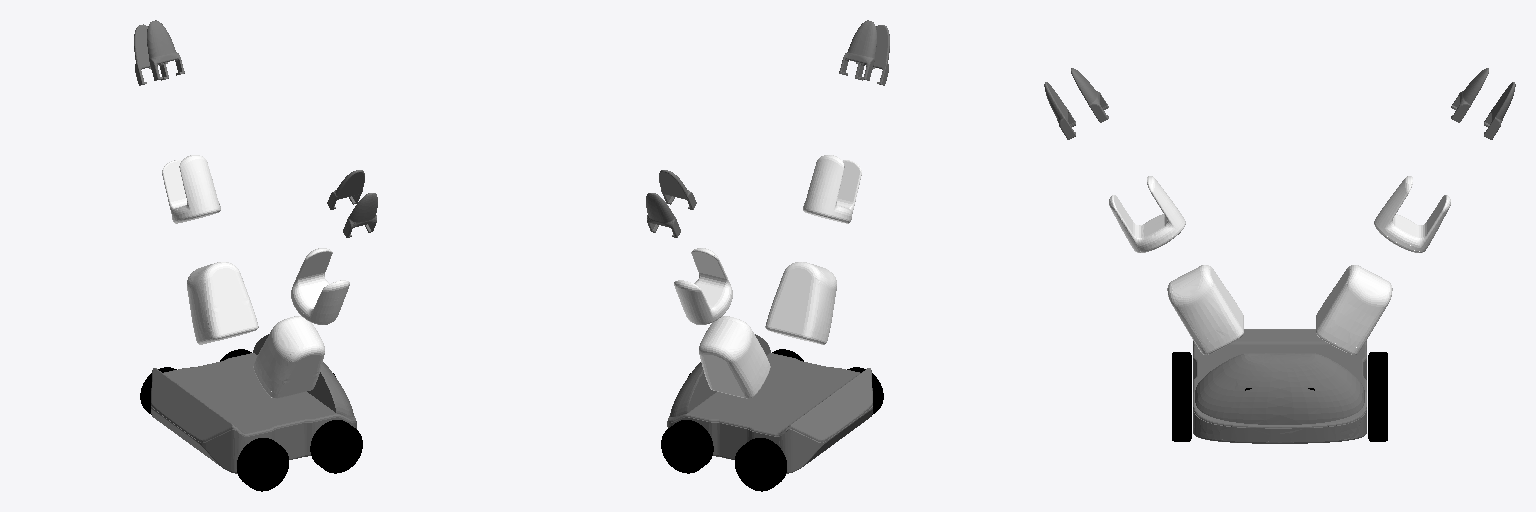
--- Facts derived from the render (not from the file) ---
Views: 3 orthographic renders of the robot side by side, from view 1: azimuth 30°, elevation 25°; view 2: azimuth 150°, elevation 25°; view 3: azimuth 270°, elevation 25°.
Robot: up1 — 24 links, 23 joints (10 revolute, 4 continuous, 4 prismatic, 5 fixed); root link up1_footprint; default pose: every joint at zero.
Links seen in each view (by area): view 1: base_link, left_armlink1, right_armlink1, left_armlink3, right_armlink3, right_front_wheel, right_back_wheel, io_link, left_finger2, right_finger2, left_finger1, right_finger1; view 2: base_link, right_armlink1, left_armlink1, right_armlink3, left_armlink3, left_front_wheel, left_back_wheel, io_link, right_finger1, left_finger1, right_finger2, left_finger2; view 3: io_link, base_link, right_armlink1, left_armlink1, right_armlink3, left_armlink3, right_front_wheel, left_front_wheel, left_finger2, right_finger1, right_back_wheel, left_back_wheel (+2 smaller).
Link boxes in pixels (left/top/right/bottom): base_link: left=151, top=353, right=356, bottom=473; left_armlink1: left=187, top=262, right=258, bottom=344; right_armlink1: left=253, top=316, right=324, bottom=398; left_armlink3: left=162, top=155, right=220, bottom=223; right_armlink3: left=291, top=248, right=349, bottom=324; right_front_wheel: left=310, top=420, right=362, bottom=473; right_back_wheel: left=237, top=438, right=288, bottom=491; io_link: left=253, top=334, right=353, bottom=416; left_finger2: left=147, top=20, right=184, bottom=80; right_finger2: left=343, top=193, right=377, bottom=237; left_finger1: left=134, top=24, right=168, bottom=85; right_finger1: left=327, top=170, right=364, bottom=209; base_link: left=667, top=353, right=872, bottom=473; right_armlink1: left=765, top=262, right=836, bottom=344; left_armlink1: left=699, top=316, right=770, bottom=398; right_armlink3: left=803, top=155, right=861, bottom=223; left_armlink3: left=674, top=248, right=732, bottom=324; left_front_wheel: left=661, top=420, right=713, bottom=473; left_back_wheel: left=735, top=438, right=786, bottom=491; io_link: left=670, top=334, right=770, bottom=416; right_finger1: left=839, top=20, right=876, bottom=80; left_finger1: left=646, top=193, right=680, bottom=237; right_finger2: left=855, top=25, right=889, bottom=85; left_finger2: left=659, top=170, right=696, bottom=209; io_link: left=1195, top=353, right=1364, bottom=424; base_link: left=1193, top=329, right=1366, bottom=443; right_armlink1: left=1167, top=265, right=1243, bottom=354; left_armlink1: left=1316, top=265, right=1392, bottom=354; right_armlink3: left=1109, top=176, right=1185, bottom=252; left_armlink3: left=1374, top=176, right=1450, bottom=252; right_front_wheel: left=1172, top=389, right=1191, bottom=441; left_front_wheel: left=1368, top=389, right=1387, bottom=441; left_finger2: left=1451, top=68, right=1488, bottom=122; right_finger1: left=1071, top=68, right=1108, bottom=122; right_back_wheel: left=1172, top=352, right=1191, bottom=390; left_back_wheel: left=1368, top=352, right=1387, bottom=390.
Bounding box of the posed robot: 0.2399 × 0.6227 × 0.5162 m (x, y, z).
Meshes: 11 distinct files referenced, 16 mesh visuals loaded (7 binary STL); not drawn: 7 (reference not matched to a file when rendering).

URDF robot description (up1):
<?xml version="1.0" ?>
<!-- =================================================================================== -->
<!-- |    This document was autogenerated by xacro from up1.xacro                      | -->
<!-- |    EDITING THIS FILE BY HAND IS NOT RECOMMENDED                                 | -->
<!-- =================================================================================== -->
<robot name="up1" xmlns:xacro="http://www.ros.org/wiki/xacro">
  <!-- This syntax does not appear to work, even in ros-indigo -->
  <!-- <xacro:arg name="manipulator_module" default="dual_arm" />
  <xacro:arg name="base_module" default="base" />
  <xacro:arg name="io_module" default="io" /> -->
  <!-- ============================   Common   ============================ -->
  <material name="black">
    <color rgba="0 0 0 1"/>
  </material>
  <material name="white">
    <color rgba="1 1 1 1"/>
  </material>
  <material name="red">
    <color rgba="1 0 0 1"/>
  </material>
  <material name="grey">
    <color rgba=".5 .5 .5 1"/>
  </material>
  <material name="green">
    <color rgba="0 1 0 1"/>
  </material>
  <material name="blue">
    <color rgba="0 0 1 1"/>
  </material>
  <material name="yellow">
    <color rgba="1 1 0 1"/>
  </material>
  <gazebo>
    <plugin filename="libgazebo_ros_control.so" name="gazebo_ros_control">
      <robotNamespace>/up1</robotNamespace>
      <robotSimType>gazebo_ros_control/DefaultRobotHWSim</robotSimType>
    </plugin>
  </gazebo>
  <!-- ============================   Base Module   ============================ -->
  <!-- base_footprint is a fictitious link(frame) that is on the ground right below base_link origin,
         navigation stack dedpends on this frame -->
  <link name="up1_footprint">
    <visual>
      <origin rpy="0 0 0" xyz="0 0 0"/>
      <geometry>
        <box size="0.01 0.01 0.01"/>
      </geometry>
      <material name="white"/>
    </visual>
    <collision>
      <!-- represent base collision with a simple rectangular model, positioned by base_size_z s.t. top
             surface of the collision box matches the top surface of the PR2 base -->
      <origin rpy="0 0 0" xyz="0 0 0.071"/>
      <geometry>
        <box size="0.001 0.001 0.001"/>
      </geometry>
    </collision>
  </link>
  <joint name="up1_footprint_joint" type="fixed">
    <origin rpy="0 0 0" xyz="0 0 0.051"/>
    <child link="base_link"/>
    <parent link="up1_footprint"/>
  </joint>
  <!-- Base Link -->
  <link name="base_link">
    <visual>
      <geometry>
        <mesh filename="package://up1_description/meshes/base/base.stl" scale="0.001 0.001 0.001"/>
      </geometry>
      <material name="grey"/>
    </visual>
    <collision>
      <geometry>
        <mesh filename="package://up1_description/meshes/base/base.stl" scale="0.001 0.001 0.001"/>
      </geometry>
    </collision>
    <inertial>
      <mass value="0.30813"/>
      <inertia ixx="0.00175941073" ixy="0.00000172768" ixz="-0.00008279443" iyy="0.00172024238" iyz="0.00000045789" izz="0.00311278092"/>
    </inertial>
  </link>
  <!-- ============================   Base Module Gazebo   ============================ -->
  <gazebo>
    <plugin filename="libgazebo_ros_skid_steer_drive.so" name="skid_steer_drive_controller">
      <updateRate>100.0</updateRate>
      <robotNamespace/>
      <leftFrontJoint>base_to_left_front_wheel</leftFrontJoint>
      <rightFrontJoint>base_to_right_front_wheel</rightFrontJoint>
      <leftRearJoint>base_to_left_back_wheel</leftRearJoint>
      <rightRearJoint>base_to_right_back_wheel</rightRearJoint>
      <wheelSeparation>0.2794</wheelSeparation>
      <wheelDiameter>0.0625</wheelDiameter>
      <robotBaseFrame>up1_footprint</robotBaseFrame>
      <torque>20</torque>
      <topicName>cmd_vel</topicName>
      <broadcastTF>false</broadcastTF>
    </plugin>
  </gazebo>
  <!-- ============================   Wheel   ============================ -->
  <!-- Front Wheel Joint -->
  <joint name="base_to_right_front_wheel" type="continuous">
    <parent link="base_link"/>
    <child link="right_front_wheel"/>
    <origin rpy="1.570795 0 0" xyz="0.05569 -0.12922 -0.0211"/>
    <axis xyz="0 0 -1.0"/>
  </joint>
  <!-- Front Wheel Link -->
  <link name="right_front_wheel">
    <visual>
      <geometry>
        <mesh filename="package://up1_description/meshes/base/wheel.stl" scale="0.001 0.001 0.001"/>
      </geometry>
      <material name="black"/>
    </visual>
    <collision>
      <geometry>
        <mesh filename="package://up1_description/meshes/base/wheel.stl" scale="0.001 0.001 0.001"/>
      </geometry>
    </collision>
    <inertial>
      <mass value="0.01791"/>
      <inertia ixx="0.00000575118" ixy="-0.00000000224" ixz="0.0" iyy="0.00000575882" iyz="0.0" izz="0.0000094354"/>
    </inertial>
  </link>
  <!-- Back Wheel Joint -->
  <joint name="base_to_right_back_wheel" type="continuous">
    <parent link="base_link"/>
    <child link="right_back_wheel"/>
    <origin rpy="1.570795 0 0" xyz="-0.05883 -0.12922 -0.0211"/>
    <axis xyz="0 0 -1.0"/>
  </joint>
  <!-- Back Wheel Link -->
  <link name="right_back_wheel">
    <visual>
      <geometry>
        <mesh filename="package://up1_description/meshes/base/wheel.stl" scale="0.001 0.001 0.001"/>
      </geometry>
      <material name="black"/>
    </visual>
    <collision>
      <geometry>
        <mesh filename="package://up1_description/meshes/base/wheel.stl" scale="0.001 0.001 0.001"/>
      </geometry>
    </collision>
    <inertial>
      <mass value="0.01791"/>
      <inertia ixx="0.00000575118" ixy="-0.00000000224" ixz="0.0" iyy="0.00000575882" iyz="0.0" izz="0.0000094354"/>
    </inertial>
  </link>
  <!-- ============================   Wheel   ============================ -->
  <!-- Front Wheel Joint -->
  <joint name="base_to_left_front_wheel" type="continuous">
    <parent link="base_link"/>
    <child link="left_front_wheel"/>
    <origin rpy="-1.570795 0 0" xyz="0.05569 0.12922 -0.0211"/>
    <axis xyz="0 0 1.0"/>
  </joint>
  <!-- Front Wheel Link -->
  <link name="left_front_wheel">
    <visual>
      <geometry>
        <mesh filename="package://up1_description/meshes/base/wheel.stl" scale="0.001 0.001 0.001"/>
      </geometry>
      <material name="black"/>
    </visual>
    <collision>
      <geometry>
        <mesh filename="package://up1_description/meshes/base/wheel.stl" scale="0.001 0.001 0.001"/>
      </geometry>
    </collision>
    <inertial>
      <mass value="0.01791"/>
      <inertia ixx="0.00000575118" ixy="-0.00000000224" ixz="0.0" iyy="0.00000575882" iyz="0.0" izz="0.0000094354"/>
    </inertial>
  </link>
  <!-- Back Wheel Joint -->
  <joint name="base_to_left_back_wheel" type="continuous">
    <parent link="base_link"/>
    <child link="left_back_wheel"/>
    <origin rpy="-1.570795 0 0" xyz="-0.05883 0.12922 -0.0211"/>
    <axis xyz="0 0 1.0"/>
  </joint>
  <!-- Back Wheel Link -->
  <link name="left_back_wheel">
    <visual>
      <geometry>
        <mesh filename="package://up1_description/meshes/base/wheel.stl" scale="0.001 0.001 0.001"/>
      </geometry>
      <material name="black"/>
    </visual>
    <collision>
      <geometry>
        <mesh filename="package://up1_description/meshes/base/wheel.stl" scale="0.001 0.001 0.001"/>
      </geometry>
    </collision>
    <inertial>
      <mass value="0.01791"/>
      <inertia ixx="0.00000575118" ixy="-0.00000000224" ixz="0.0" iyy="0.00000575882" iyz="0.0" izz="0.0000094354"/>
    </inertial>
  </link>
  <!-- ============================   IO Module   ============================ -->
  <!-- IO Joint -->
  <joint name="base_to_io" type="fixed">
    <parent link="base_link"/>
    <child link="io_link"/>
    <origin xyz="0.09136 0 0.03356"/>
  </joint>
  <!-- IO Link -->
  <link name="io_link">
    <visual>
      <geometry>
        <mesh filename="package://up1_description/meshes/io/io.stl" scale="0.001 0.001 0.001"/>
      </geometry>
      <material name="grey"/>
    </visual>
    <collision>
      <geometry>
        <mesh filename="package://up1_description/meshes/io/io.stl" scale="0.001 0.001 0.001"/>
      </geometry>
    </collision>
    <inertial>
      <mass value="0.09799"/>
      <inertia ixx="0.00036946993" ixy="0.00000010944" ixz="-0.00001523298" iyy="0.00007193675" iyz="0.00000030515" izz="0.00034948153"/>
    </inertial>
  </link>
  <!-- ============================   IO Module Gazebo   ============================ -->
  <gazebo>

    </gazebo>
  <!-- ============================   Camera   ============================ -->
  <!-- Camera Joint -->
  <joint name="io_to_right_camera" type="fixed">
    <parent link="io_link"/>
    <child link="right_camera"/>
    <origin xyz="-0.01219 -0.04027 0.00023"/>
  </joint>
  <!-- Camera Link -->
  <link name="right_camera">
    <visual>
      <geometry>
        <mesh filename="package://up1_description/meshes/io/camera.stl" scale="0.001 0.001 0.001"/>
      </geometry>
      <material name="black"/>
    </visual>
    <collision>
      <geometry>
        <mesh filename="package://up1_description/meshes/io/camera.stl" scale="0.001 0.001 0.001"/>
      </geometry>
    </collision>
    <inertial>
      <mass value="0.00488"/>
      <inertia ixx="0.00000029098" ixy="0.0" ixz="0.0" iyy="0.00000085538" iyz="0.0" izz="0.00000085538"/>
    </inertial>
  </link>
  <!-- ============================   Camera   ============================ -->
  <!-- Camera Joint -->
  <joint name="io_to_left_camera" type="fixed">
    <parent link="io_link"/>
    <child link="left_camera"/>
    <origin xyz="-0.01219 0.04027 0.00023"/>
  </joint>
  <!-- Camera Link -->
  <link name="left_camera">
    <visual>
      <geometry>
        <mesh filename="package://up1_description/meshes/io/camera.stl" scale="0.001 0.001 0.001"/>
      </geometry>
      <material name="black"/>
    </visual>
    <collision>
      <geometry>
        <mesh filename="package://up1_description/meshes/io/camera.stl" scale="0.001 0.001 0.001"/>
      </geometry>
    </collision>
    <inertial>
      <mass value="0.00488"/>
      <inertia ixx="0.00000029098" ixy="0.0" ixz="0.0" iyy="0.00000085538" iyz="0.0" izz="0.00000085538"/>
    </inertial>
  </link>
  <!-- ============================   Dual Arm Module   ============================ -->
  <!-- This xacro group is intended to be used in a full UP1 robot URDF -->
  <!-- Armroot Joint -->
  <joint name="base_to_armroot" type="fixed">
    <parent link="base_link"/>
    <child link="armroot_link"/>
    <origin xyz="-0.01247 0 0.05187"/>
  </joint>
  <!-- ============================   Arm Root Link   ============================ -->
  <!-- Armroot Link -->
  <link name="armroot_link">
    <visual>
      <geometry>
        <mesh filename="package://up1_description/meshes/dual_arm/armroot.stl" scale="0.001 0.001 0.001"/>
      </geometry>
      <material name="grey"/>
    </visual>
    <collision>
      <geometry>
        <mesh filename="package://up1_description/meshes/dual_arm/armroot.stl" scale="0.001 0.001 0.001"/>
      </geometry>
    </collision>
    <inertial>
      <mass value="0.20657"/>
      <inertia ixx="0.00096240277" ixy="-0.00000350376" ixz="0.00002354169" iyy="0.00057897825" iyz="0.00000127419" izz="0.00134814249"/>
    </inertial>
  </link>
  <!-- ============================   Arm   ============================ -->
  <!-- Arm Joint 1 -->
  <joint name="right_armroot_to_armlink1" type="revolute">
    <parent link="armroot_link"/>
    <child link="right_armlink1"/>
    <origin rpy="-0.523598333333 3.14159 0" xyz="0.01777 -0.07385 0.01853"/>
    <axis xyz="0 0 1"/>
    <limit effort="6.0" lower="-1.570795" upper="1.570795" velocity="1"/>
  </joint>
  <!-- Arm Link 1 -->
  <link name="right_armlink1">
    <visual>
      <geometry>
        <mesh filename="package://up1_description/meshes/dual_arm/armlink1.stl" scale="0.001 0.001 0.001"/>
      </geometry>
      <material name="white"/>
    </visual>
    <collision>
      <geometry>
        <mesh filename="package://up1_description/meshes/dual_arm/armlink1.stl" scale="0.001 0.001 0.001"/>
      </geometry>
    </collision>
    <inertial>
      <mass value="0.06985"/>
      <inertia ixx="0.00023448766" ixy="0.0000000027" ixz="0.00000001913" iyy="0.00024004726" iyz="-0.0000015393" izz="0.00007431363"/>
    </inertial>
  </link>
  <!-- Arm Joint 2 -->
  <joint name="right_armlink1_to_armlink2" type="revolute">
    <parent link="right_armlink1"/>
    <child link="right_armlink2"/>
    <origin rpy="1.570795 3.14159 0" xyz="0 0 -0.07038"/>
    <axis xyz="0 0 1.0"/>
    <limit effort="6.0" lower="-1.570795" upper="1.570795" velocity="1"/>
  </joint>
  <!-- Arm Link 2 -->
  <link name="right_armlink2">
    <visual>
      <geometry>
        <mesh filename="package://up1_description/meshes/dual_arm/armlink2.stl" scale="0.001 0.001 0.001"/>
      </geometry>
      <material name="white"/>
    </visual>
    <collision>
      <geometry>
        <mesh filename="package://up1_description/meshes/dual_arm/armlink2.stl" scale="0.001 0.001 0.001"/>
      </geometry>
    </collision>
    <inertial>
      <mass value="0.07067"/>
      <inertia ixx="0.00029708797" ixy="-0.00000000444" ixz="0.00000000068" iyy="0.0000799845" iyz="-0.00000174097" izz="0.00026073683"/>
    </inertial>
  </link>
  <!-- Arm Joint 3 -->
  <joint name="right_armlink2_to_armlink3" type="revolute">
    <parent link="right_armlink2"/>
    <child link="right_armlink3"/>
    <origin rpy="-1.570795 3.14159 0" xyz="0 0.09602 0"/>
    <axis xyz="0 0 -1"/>
    <limit effort="6.0" lower="-1.570795" upper="1.570795" velocity="1"/>
  </joint>
  <!-- Arm Link 3 -->
  <link name="right_armlink3">
    <visual>
      <geometry>
        <mesh filename="package://up1_description/meshes/dual_arm/armlink3.stl" scale="0.001 0.001 0.001"/>
      </geometry>
      <material name="white"/>
    </visual>
    <collision>
      <geometry>
        <mesh filename="package://up1_description/meshes/dual_arm/armlink3.stl" scale="0.001 0.001 0.001"/>
      </geometry>
    </collision>
    <inertial>
      <mass value="0.04828"/>
      <inertia ixx="0.00010408822" ixy="0.00000002684" ixz="0.00000006554" iyy="0.00008358122" iyz="0.00000001571" izz="0.00004453887"/>
    </inertial>
  </link>
  <!-- Arm Joint 4 -->
  <joint name="right_armlink3_to_armlink4" type="revolute">
    <parent link="right_armlink3"/>
    <child link="right_armlink4"/>
    <origin rpy="1.570795 0 0" xyz="0 0 0.05588"/>
    <axis xyz="0 0 1.0"/>
    <limit effort="6.0" lower="-1.570795" upper="1.570795" velocity="1"/>
  </joint>
  <!-- Arm Link 4 -->
  <link name="right_armlink4">
    <visual>
      <geometry>
        <mesh filename="package://up1_description/meshes/dual_arm/armlink4.stl" scale="0.001 0.001 0.001"/>
      </geometry>
      <material name="white"/>
    </visual>
    <collision>
      <geometry>
        <mesh filename="package://up1_description/meshes/dual_arm/armlink4.stl" scale="0.001 0.001 0.001"/>
      </geometry>
    </collision>
    <inertial>
      <mass value="0.07021"/>
      <inertia ixx="0.00022365714" ixy="0.00000581335" ixz="-0.00000002583" iyy="0.00004497277" iyz="0.00000036702" izz="0.00022294807"/>
    </inertial>
  </link>
  <!-- Arm Joint 5 -->
  <joint name="right_armlink4_to_gripper" type="revolute">
    <parent link="right_armlink4"/>
    <child link="right_gripper"/>
    <origin rpy="0 1.570795 0" xyz="0 0.07641 0"/>
    <axis xyz="0 0 -1.0"/>
    <limit effort="6.0" lower="-1.570795" upper="1.570795" velocity="1"/>
  </joint>
  <!-- Gripper Link -->
  <link name="right_gripper">
    <visual>
      <geometry>
        <mesh filename="package://up1_description/meshes/dual_arm/armlink5.stl" scale="0.001 0.001 0.001"/>
      </geometry>
      <material name="white"/>
    </visual>
    <collision>
      <geometry>
        <mesh filename="package://up1_description/meshes/dual_arm/armlink5.stl" scale="0.001 0.001 0.001"/>
      </geometry>
    </collision>
    <inertial>
      <mass value="0.07134"/>
      <inertia ixx="0.00024486788" ixy="-0.00000179765" ixz="-0.0000013121" iyy="0.00007141374" iyz="0.00000015595" izz="0.0002397239"/>
    </inertial>
  </link>
  <!-- ============================   Arm Gazebo  ============================ -->
  <gazebo reference="right_armlink1">
    <turnGravityOff>true</turnGravityOff>
  </gazebo>
  <gazebo reference="right_armlink2">
    <turnGravityOff>true</turnGravityOff>
  </gazebo>
  <gazebo reference="right_armlink3">
    <turnGravityOff>true</turnGravityOff>
  </gazebo>
  <gazebo reference="right_armlink4">
    <turnGravityOff>true</turnGravityOff>
  </gazebo>
  <gazebo reference="right_gripper">
    <turnGravityOff>true</turnGravityOff>
  </gazebo>
  <!-- ============================   Arm Transmission  ============================ -->
  <transmission name="right_armroot_to_armlink1_trans">
    <type>transmission_interface/SimpleTransmission</type>
    <joint name="right_armroot_to_armlink1">
      <hardwareInterface>PositionJointInterface</hardwareInterface>
    </joint>
    <actuator name="right_armroot_to_armlink1_motor">
      <mechanicalReduction>1</mechanicalReduction>
    </actuator>
  </transmission>
  <transmission name="right_armlink1_to_armlink2_trans">
    <type>transmission_interface/SimpleTransmission</type>
    <joint name="right_armlink1_to_armlink2">
      <hardwareInterface>PositionJointInterface</hardwareInterface>
    </joint>
    <actuator name="right_armlink1_to_armlink2_motor">
      <mechanicalReduction>1</mechanicalReduction>
    </actuator>
  </transmission>
  <transmission name="right_armlink2_to_armlink3_trans">
    <type>transmission_interface/SimpleTransmission</type>
    <joint name="right_armlink2_to_armlink3">
      <hardwareInterface>PositionJointInterface</hardwareInterface>
    </joint>
    <actuator name="right_armlink2_to_armlink3_motor">
      <mechanicalReduction>1</mechanicalReduction>
    </actuator>
  </transmission>
  <transmission name="right_armlink3_to_armlink4_trans">
    <type>transmission_interface/SimpleTransmission</type>
    <joint name="right_armlink3_to_armlink4">
      <hardwareInterface>PositionJointInterface</hardwareInterface>
    </joint>
    <actuator name="right_armlink3_to_armlink4_motor">
      <mechanicalReduction>1</mechanicalReduction>
    </actuator>
  </transmission>
  <transmission name="right_armlink4_to_gripper_trans">
    <type>transmission_interface/SimpleTransmission</type>
    <joint name="right_armlink4_to_gripper">
      <hardwareInterface>PositionJointInterface</hardwareInterface>
    </joint>
    <actuator name="right_armlink4_to_gripper_motor">
      <mechanicalReduction>1</mechanicalReduction>
    </actuator>
  </transmission>
  <!-- ============================   Arm   ============================ -->
  <!-- Arm Joint 1 -->
  <joint name="left_armroot_to_armlink1" type="revolute">
    <parent link="armroot_link"/>
    <child link="left_armlink1"/>
    <origin rpy="0.523598333333 3.14159 0" xyz="0.01777 0.07385 0.01853"/>
    <axis xyz="0 0 1"/>
    <limit effort="6.0" lower="-1.570795" upper="1.570795" velocity="1"/>
  </joint>
  <!-- Arm Link 1 -->
  <link name="left_armlink1">
    <visual>
      <geometry>
        <mesh filename="package://up1_description/meshes/dual_arm/armlink1.stl" scale="0.001 0.001 0.001"/>
      </geometry>
      <material name="white"/>
    </visual>
    <collision>
      <geometry>
        <mesh filename="package://up1_description/meshes/dual_arm/armlink1.stl" scale="0.001 0.001 0.001"/>
      </geometry>
    </collision>
    <inertial>
      <mass value="0.06985"/>
      <inertia ixx="0.00023448766" ixy="0.0000000027" ixz="0.00000001913" iyy="0.00024004726" iyz="-0.0000015393" izz="0.00007431363"/>
    </inertial>
  </link>
  <!-- Arm Joint 2 -->
  <joint name="left_armlink1_to_armlink2" type="revolute">
    <parent link="left_armlink1"/>
    <child link="left_armlink2"/>
    <origin rpy="1.570795 3.14159 0" xyz="0 0 -0.07038"/>
    <axis xyz="0 0 -1.0"/>
    <limit effort="6.0" lower="-1.570795" upper="1.570795" velocity="1"/>
  </joint>
  <!-- Arm Link 2 -->
  <link name="left_armlink2">
    <visual>
      <geometry>
        <mesh filename="package://up1_description/meshes/dual_arm/armlink2.stl" scale="0.001 0.001 0.001"/>
      </geometry>
      <material name="white"/>
    </visual>
    <collision>
      <geometry>
        <mesh filename="package://up1_description/meshes/dual_arm/armlink2.stl" scale="0.001 0.001 0.001"/>
      </geometry>
    </collision>
    <inertial>
      <mass value="0.07067"/>
      <inertia ixx="0.00029708797" ixy="-0.00000000444" ixz="0.00000000068" iyy="0.0000799845" iyz="-0.00000174097" izz="0.00026073683"/>
    </inertial>
  </link>
  <!-- Arm Joint 3 -->
  <joint name="left_armlink2_to_armlink3" type="revolute">
    <parent link="left_armlink2"/>
    <child link="left_armlink3"/>
    <origin rpy="-1.570795 3.14159 0" xyz="0 0.09602 0"/>
    <axis xyz="0 0 -1"/>
    <limit effort="6.0" lower="-1.570795" upper="1.570795" velocity="1"/>
  </joint>
  <!-- Arm Link 3 -->
  <link name="left_armlink3">
    <visual>
      <geometry>
        <mesh filename="package://up1_description/meshes/dual_arm/armlink3.stl" scale="0.001 0.001 0.001"/>
      </geometry>
      <material name="white"/>
    </visual>
    <collision>
      <geometry>
        <mesh filename="package://up1_description/meshes/dual_arm/armlink3.stl" scale="0.001 0.001 0.001"/>
      </geometry>
    </collision>
    <inertial>
      <mass value="0.04828"/>
      <inertia ixx="0.00010408822" ixy="0.00000002684" ixz="0.00000006554" iyy="0.00008358122" iyz="0.00000001571" izz="0.00004453887"/>
    </inertial>
  </link>
  <!-- Arm Joint 4 -->
  <joint name="left_armlink3_to_armlink4" type="revolute">
    <parent link="left_armlink3"/>
    <child link="left_armlink4"/>
    <origin rpy="1.570795 0 0" xyz="0 0 0.05588"/>
    <axis xyz="0 0 -1.0"/>
    <limit effort="6.0" lower="-1.570795" upper="1.570795" velocity="1"/>
  </joint>
  <!-- Arm Link 4 -->
  <link name="left_armlink4">
    <visual>
      <geometry>
        <mesh filename="package://up1_description/meshes/dual_arm/armlink4.stl" scale="0.001 0.001 0.001"/>
      </geometry>
      <material name="white"/>
    </visual>
    <collision>
      <geometry>
        <mesh filename="package://up1_description/meshes/dual_arm/armlink4.stl" scale="0.001 0.001 0.001"/>
      </geometry>
    </collision>
    <inertial>
      <mass value="0.07021"/>
      <inertia ixx="0.00022365714" ixy="0.00000581335" ixz="-0.00000002583" iyy="0.00004497277" iyz="0.00000036702" izz="0.00022294807"/>
    </inertial>
  </link>
  <!-- Arm Joint 5 -->
  <joint name="left_armlink4_to_gripper" type="revolute">
    <parent link="left_armlink4"/>
    <child link="left_gripper"/>
    <origin rpy="0 1.570795 0" xyz="0 0.07641 0"/>
    <axis xyz="0 0 1.0"/>
    <limit effort="6.0" lower="-1.570795" upper="1.570795" velocity="1"/>
  </joint>
  <!-- Gripper Link -->
  <link name="left_gripper">
    <visual>
      <geometry>
        <mesh filename="package://up1_description/meshes/dual_arm/armlink5.stl" scale="0.001 0.001 0.001"/>
      </geometry>
      <material name="white"/>
    </visual>
    <collision>
      <geometry>
        <mesh filename="package://up1_description/meshes/dual_arm/armlink5.stl" scale="0.001 0.001 0.001"/>
      </geometry>
    </collision>
    <inertial>
      <mass value="0.07134"/>
      <inertia ixx="0.00024486788" ixy="-0.00000179765" ixz="-0.0000013121" iyy="0.00007141374" iyz="0.00000015595" izz="0.0002397239"/>
    </inertial>
  </link>
  <!-- ============================   Arm Gazebo  ============================ -->
  <gazebo reference="left_armlink1">
    <turnGravityOff>true</turnGravityOff>
  </gazebo>
  <gazebo reference="left_armlink2">
    <turnGravityOff>true</turnGravityOff>
  </gazebo>
  <gazebo reference="left_armlink3">
    <turnGravityOff>true</turnGravityOff>
  </gazebo>
  <gazebo reference="left_armlink4">
    <turnGravityOff>true</turnGravityOff>
  </gazebo>
  <gazebo reference="left_gripper">
    <turnGravityOff>true</turnGravityOff>
  </gazebo>
  <!-- ============================   Arm Transmission  ============================ -->
  <transmission name="left_armroot_to_armlink1_trans">
    <type>transmission_interface/SimpleTransmission</type>
    <joint name="left_armroot_to_armlink1">
      <hardwareInterface>PositionJointInterface</hardwareInterface>
    </joint>
    <actuator name="left_armroot_to_armlink1_motor">
      <mechanicalReduction>1</mechanicalReduction>
    </actuator>
  </transmission>
  <transmission name="left_armlink1_to_armlink2_trans">
    <type>transmission_interface/SimpleTransmission</type>
    <joint name="left_armlink1_to_armlink2">
      <hardwareInterface>PositionJointInterface</hardwareInterface>
    </joint>
    <actuator name="left_armlink1_to_armlink2_motor">
      <mechanicalReduction>1</mechanicalReduction>
    </actuator>
  </transmission>
  <transmission name="left_armlink2_to_armlink3_trans">
    <type>transmission_interface/SimpleTransmission</type>
    <joint name="left_armlink2_to_armlink3">
      <hardwareInterface>PositionJointInterface</hardwareInterface>
    </joint>
    <actuator name="left_armlink2_to_armlink3_motor">
      <mechanicalReduction>1</mechanicalReduction>
    </actuator>
  </transmission>
  <transmission name="left_armlink3_to_armlink4_trans">
    <type>transmission_interface/SimpleTransmission</type>
    <joint name="left_armlink3_to_armlink4">
      <hardwareInterface>PositionJointInterface</hardwareInterface>
    </joint>
    <actuator name="left_armlink3_to_armlink4_motor">
      <mechanicalReduction>1</mechanicalReduction>
    </actuator>
  </transmission>
  <transmission name="left_armlink4_to_gripper_trans">
    <type>transmission_interface/SimpleTransmission</type>
    <joint name="left_armlink4_to_gripper">
      <hardwareInterface>PositionJointInterface</hardwareInterface>
    </joint>
    <actuator name="left_armlink4_to_gripper_motor">
      <mechanicalReduction>1</mechanicalReduction>
    </actuator>
  </transmission>
  <!-- ============================   Gripper   ============================ -->
  <!-- Finger Joint 1 -->
  <joint name="right_finger_joint" type="prismatic">
    <parent link="right_gripper"/>
    <child link="right_finger1"/>
    <origin rpy="0 1.570795 0" xyz="-0.018 0.08121 0"/>
    <axis xyz="0 0 1"/>
    <limit effort="6.0" lower="0" upper="0.018" velocity="1"/>
  </joint>
  <!-- Finger Link 1 -->
  <link name="right_finger1">
    <visual>
      <geometry>
        <mesh filename="package://up1_description/meshes/dual_arm/finger.stl" scale="0.001 0.001 0.001"/>
      </geometry>
      <material name="grey"/>
    </visual>
    <collision>
      <geometry>
        <mesh filename="package://up1_description/meshes/dual_arm/finger.stl" scale="0.001 0.001 0.001"/>
      </geometry>
    </collision>
    <inertial>
      <mass value="0.01174"/>
      <inertia ixx="0.00000285949" ixy="-0.00000001641" ixz="0.00000001803" iyy="0.00000203198" iyz="-0.00000077289" izz="0.00000299021"/>
    </inertial>
  </link>
  <!-- Finger Joint 2 -->
  <joint name="right_finger_joint_fake" type="prismatic">
    <parent link="right_gripper"/>
    <child link="right_finger2"/>
    <origin rpy="0 -1.570795 0" xyz="0.018 0.08121 0"/>
    <axis xyz="0 0 1"/>
    <limit effort="6.0" lower="0" upper="0.018" velocity="1"/>
    <mimic joint="right_finger_joint" multiplier="1" offset="0"/>
  </joint>
  <!-- Finger Link 2 -->
  <link name="right_finger2">
    <visual>
      <geometry>
        <mesh filename="package://up1_description/meshes/dual_arm/finger.stl" scale="0.001 0.001 0.001"/>
      </geometry>
      <material name="grey"/>
    </visual>
    <collision>
      <geometry>
        <mesh filename="package://up1_description/meshes/dual_arm/finger.stl" scale="0.001 0.001 0.001"/>
      </geometry>
    </collision>
    <inertial>
      <mass value="0.01174"/>
      <inertia ixx="0.00000285949" ixy="-0.00000001641" ixz="0.00000001803" iyy="0.00000203198" iyz="-0.00000077289" izz="0.00000299021"/>
    </inertial>
  </link>
  <!-- ============================   Gripper Gazebo   ============================ -->
  <gazebo reference="right_finger1">
    <turnGravityOff>true</turnGravityOff>
  </gazebo>
  <gazebo reference="right_finger2">
    <turnGravityOff>true</turnGravityOff>
  </gazebo>
  <!-- ============================   Gripper Transmission   ============================ -->
  <transmission name="right_gripper_trans">
    <type>transmission_interface/SimpleTransmission</type>
    <joint name="right_finger_joint">
      <hardwareInterface>PositionJointInterface</hardwareInterface>
    </joint>
    <actuator name="right_gripper_motor">
      <mechanicalReduction>1</mechanicalReduction>
    </actuator>
  </transmission>
  <transmission name="right_gripper_trans">
    <type>transmission_interface/SimpleTransmission</type>
    <joint name="right_finger_joint_fake">
      <hardwareInterface>PositionJointInterface</hardwareInterface>
    </joint>
    <actuator name="right_gripper_motor">
      <mechanicalReduction>1</mechanicalReduction>
    </actuator>
  </transmission>
  <!-- ============================   Gripper   ============================ -->
  <!-- Finger Joint 1 -->
  <joint name="left_finger_joint" type="prismatic">
    <parent link="left_gripper"/>
    <child link="left_finger1"/>
    <origin rpy="0 1.570795 0" xyz="-0.018 0.08121 0"/>
    <axis xyz="0 0 1"/>
    <limit effort="6.0" lower="0" upper="0.018" velocity="1"/>
  </joint>
  <!-- Finger Link 1 -->
  <link name="left_finger1">
    <visual>
      <geometry>
        <mesh filename="package://up1_description/meshes/dual_arm/finger.stl" scale="0.001 0.001 0.001"/>
      </geometry>
      <material name="grey"/>
    </visual>
    <collision>
      <geometry>
        <mesh filename="package://up1_description/meshes/dual_arm/finger.stl" scale="0.001 0.001 0.001"/>
      </geometry>
    </collision>
    <inertial>
      <mass value="0.01174"/>
      <inertia ixx="0.00000285949" ixy="-0.00000001641" ixz="0.00000001803" iyy="0.00000203198" iyz="-0.00000077289" izz="0.00000299021"/>
    </inertial>
  </link>
  <!-- Finger Joint 2 -->
  <joint name="left_finger_joint_fake" type="prismatic">
    <parent link="left_gripper"/>
    <child link="left_finger2"/>
    <origin rpy="0 -1.570795 0" xyz="0.018 0.08121 0"/>
    <axis xyz="0 0 1"/>
    <limit effort="6.0" lower="0" upper="0.018" velocity="1"/>
    <mimic joint="left_finger_joint" multiplier="1" offset="0"/>
  </joint>
  <!-- Finger Link 2 -->
  <link name="left_finger2">
    <visual>
      <geometry>
        <mesh filename="package://up1_description/meshes/dual_arm/finger.stl" scale="0.001 0.001 0.001"/>
      </geometry>
      <material name="grey"/>
    </visual>
    <collision>
      <geometry>
        <mesh filename="package://up1_description/meshes/dual_arm/finger.stl" scale="0.001 0.001 0.001"/>
      </geometry>
    </collision>
    <inertial>
      <mass value="0.01174"/>
      <inertia ixx="0.00000285949" ixy="-0.00000001641" ixz="0.00000001803" iyy="0.00000203198" iyz="-0.00000077289" izz="0.00000299021"/>
    </inertial>
  </link>
  <!-- ============================   Gripper Gazebo   ============================ -->
  <gazebo reference="left_finger1">
    <turnGravityOff>true</turnGravityOff>
  </gazebo>
  <gazebo reference="left_finger2">
    <turnGravityOff>true</turnGravityOff>
  </gazebo>
  <!-- ============================   Gripper Transmission   ============================ -->
  <transmission name="left_gripper_trans">
    <type>transmission_interface/SimpleTransmission</type>
    <joint name="left_finger_joint">
      <hardwareInterface>PositionJointInterface</hardwareInterface>
    </joint>
    <actuator name="left_gripper_motor">
      <mechanicalReduction>1</mechanicalReduction>
    </actuator>
  </transmission>
  <transmission name="left_gripper_trans">
    <type>transmission_interface/SimpleTransmission</type>
    <joint name="left_finger_joint_fake">
      <hardwareInterface>PositionJointInterface</hardwareInterface>
    </joint>
    <actuator name="left_gripper_motor">
      <mechanicalReduction>1</mechanicalReduction>
    </actuator>
  </transmission>
</robot>
